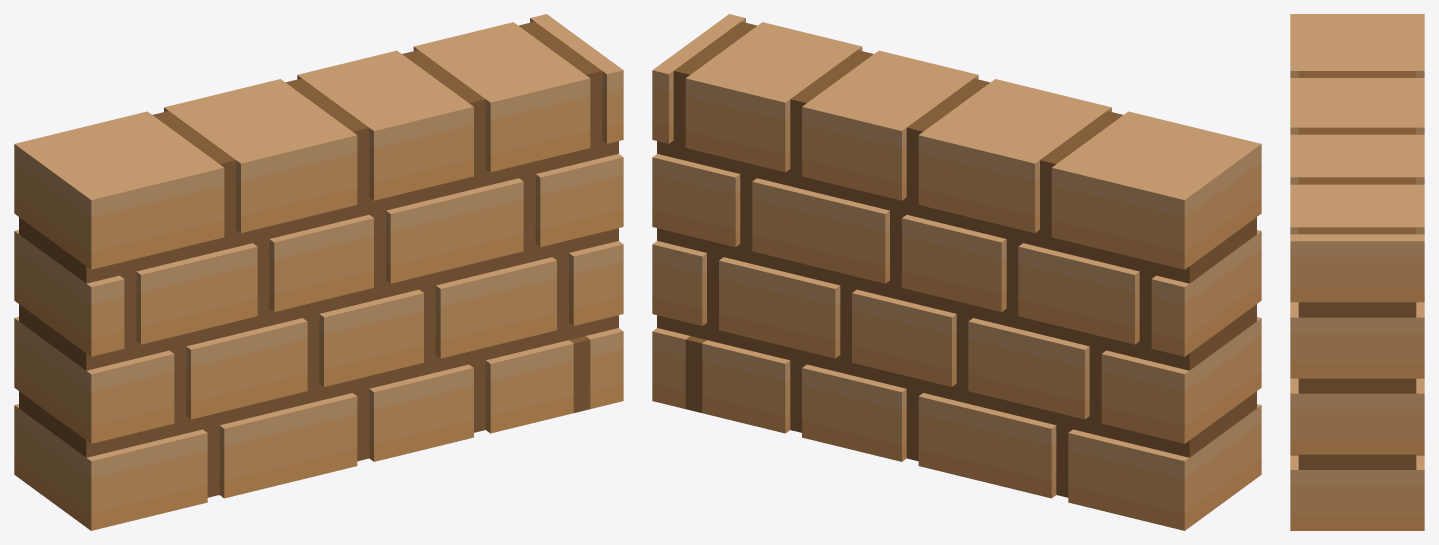
Rendered from DesertBrickWall.fbx.
The picture shows the model from 3 angles, left to right: view 1: azimuth 30°, elevation 25°; view 2: azimuth 150°, elevation 25°; view 3: azimuth 270°, elevation 25°; orthographic projection. The views are drawn at different scales.
Visible parts, largest first — view 1: generated; view 2: generated; view 3: generated.
Boxes of the visible parts, x1=… form: generated: x1=14, y1=14, x2=623, y2=530; generated: x1=652, y1=14, x2=1261, y2=530; generated: x1=1290, y1=14, x2=1424, y2=530.
Bounding box in the file's own units: 320 × 190 × 80.
